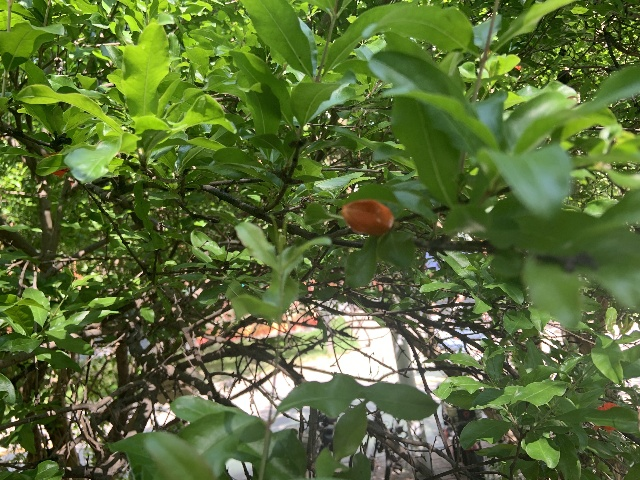bud: (341, 198, 393, 236)
